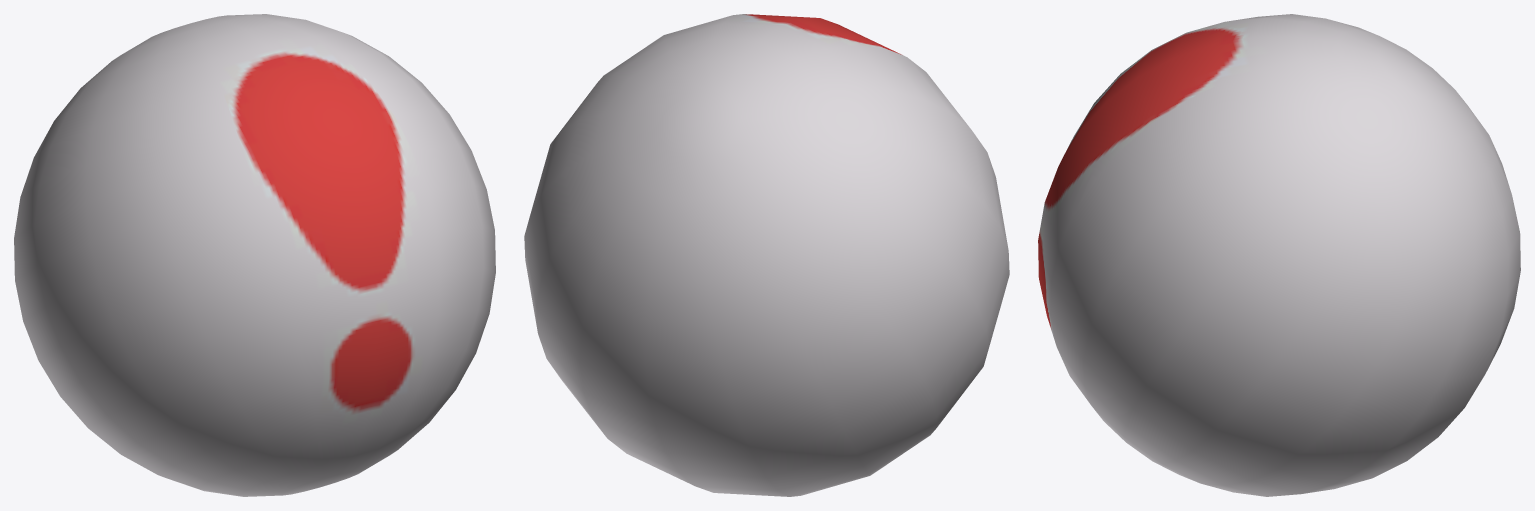
Rendered from UnitIconPitfall.glb.
3 renders of one model, left to right at view 1: azimuth 30°, elevation 25°; view 2: azimuth 150°, elevation 25°; view 3: azimuth 270°, elevation 25°, orthographic.
Parts seen in each view (by area): view 1: Body__mBody; view 2: Body__mBody; view 3: Body__mBody.
Boxes of the visible parts, x1,y1,x2,y2 form: Body__mBody: [14, 14, 495, 496]; Body__mBody: [524, 14, 1009, 496]; Body__mBody: [1038, 14, 1520, 496].
Bounding box in the file's own units: 3.72 × 3.71 × 3.71.
1 material, 1 textured.
